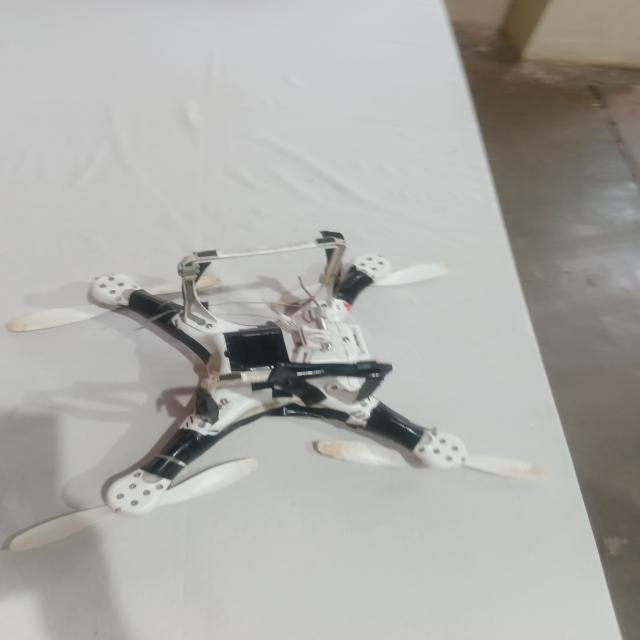drone: (0, 201, 565, 567)
